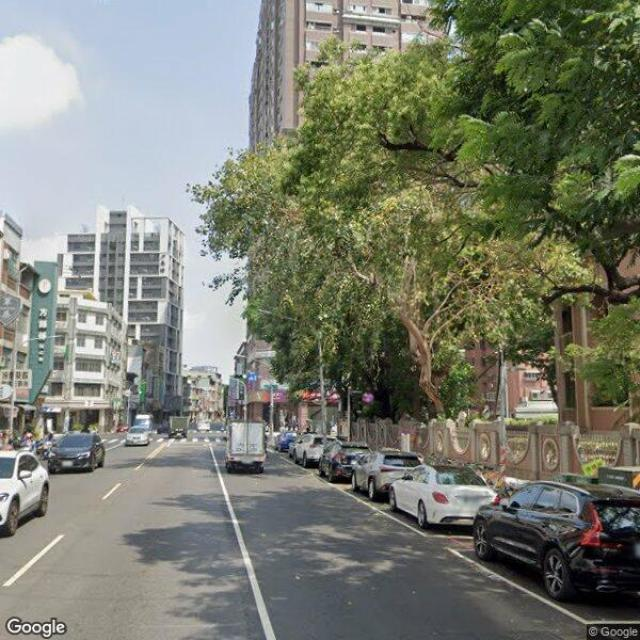Legalparking: (276, 413, 640, 640)
illegalparking: (0, 426, 112, 540)
